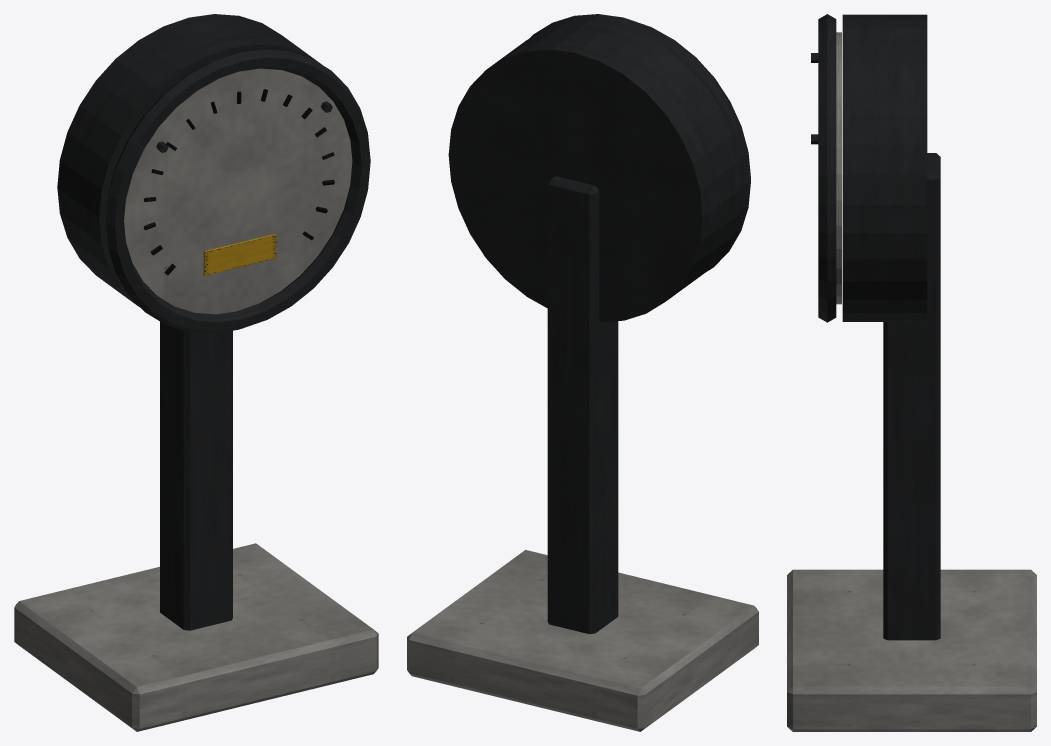
File: HarborGaugeBase.fbx
The picture shows the model from 3 angles, left to right: view 1: azimuth 30°, elevation 25°; view 2: azimuth 150°, elevation 25°; view 3: azimuth 270°, elevation 25°; orthographic projection. The views are drawn at different scales.
Parts seen in each view (by area): view 1: HarborGaugeBase.001; view 2: HarborGaugeBase.001; view 3: HarborGaugeBase.001.
Part boxes in pixels (x1,y1,x2,y2): HarborGaugeBase.001: (14,14,378,731); HarborGaugeBase.001: (407,14,758,731); HarborGaugeBase.001: (787,14,1036,731).
Size of the model in its own units: 0.804 by 1.85 by 0.65.
